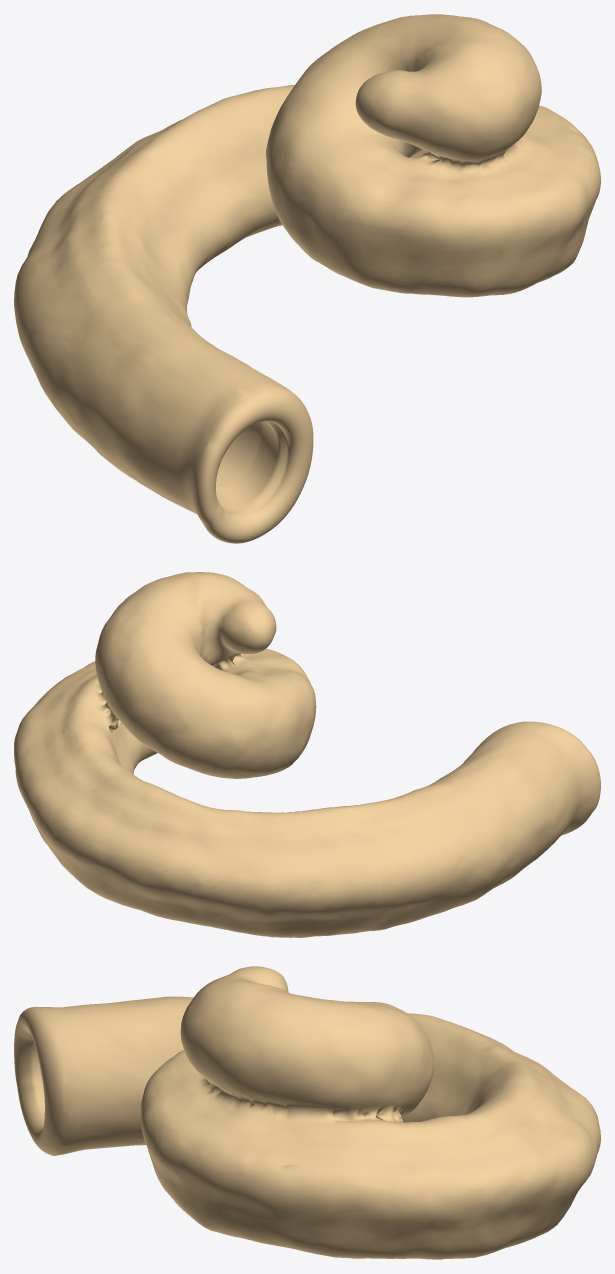
Rendered from xiphiacetus_cochlea.glb.
3 views of the same model, one above another, from view 1: azimuth 30°, elevation 25°; view 2: azimuth 150°, elevation 25°; view 3: azimuth 270°, elevation 25° (orthographic). The views are drawn at different scales.
Visible parts, largest first — view 1: Xiphiacetus_bossi_Cochlea_Hollow; view 2: Xiphiacetus_bossi_Cochlea_Hollow; view 3: Xiphiacetus_bossi_Cochlea_Hollow.
Part boxes in pixels (left/top/right/bottom): Xiphiacetus_bossi_Cochlea_Hollow: left=14, top=14, right=600, bottom=543; Xiphiacetus_bossi_Cochlea_Hollow: left=14, top=572, right=600, bottom=937; Xiphiacetus_bossi_Cochlea_Hollow: left=14, top=966, right=600, bottom=1259.
Size of the model in its own units: 9.1 by 5.28 by 9.07.
